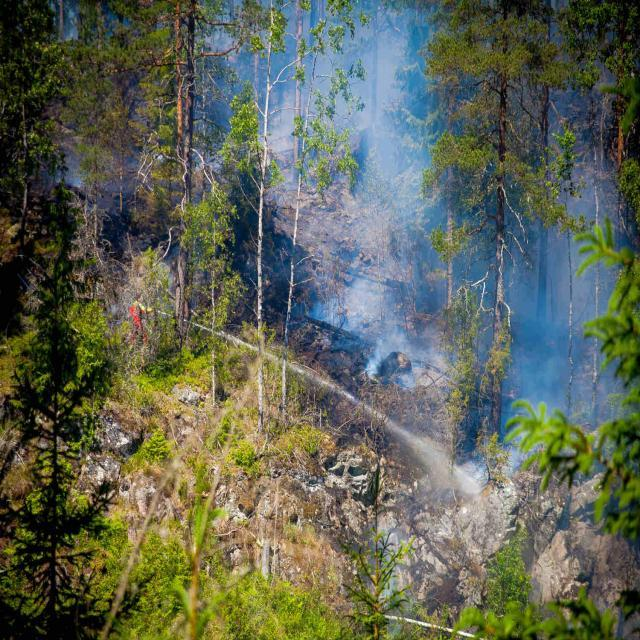Smoke: (182, 0, 640, 467)
